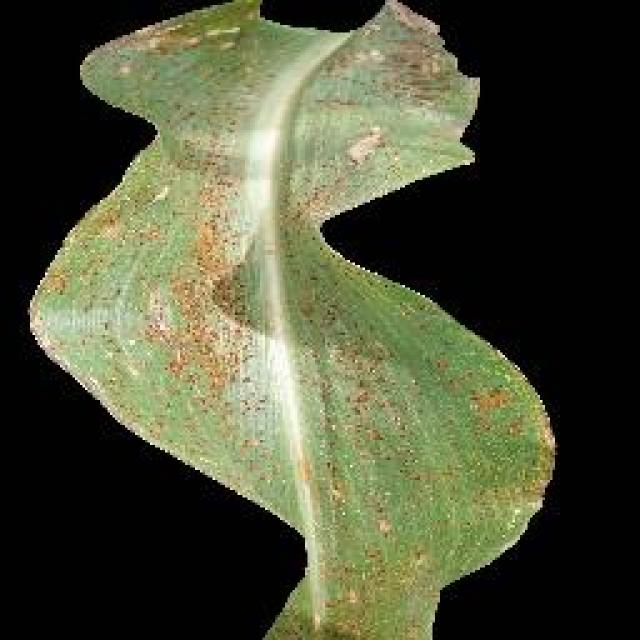Corn Common Rust: (203, 178, 485, 554)
